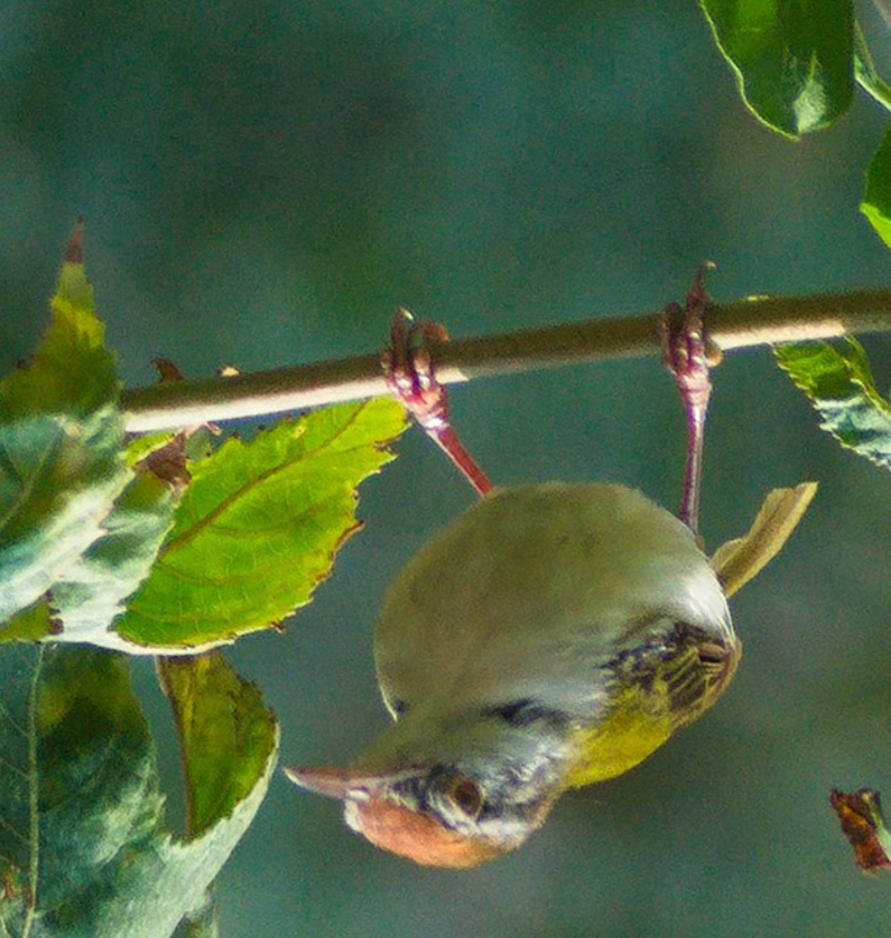tailorbird: (286, 269, 842, 894)
